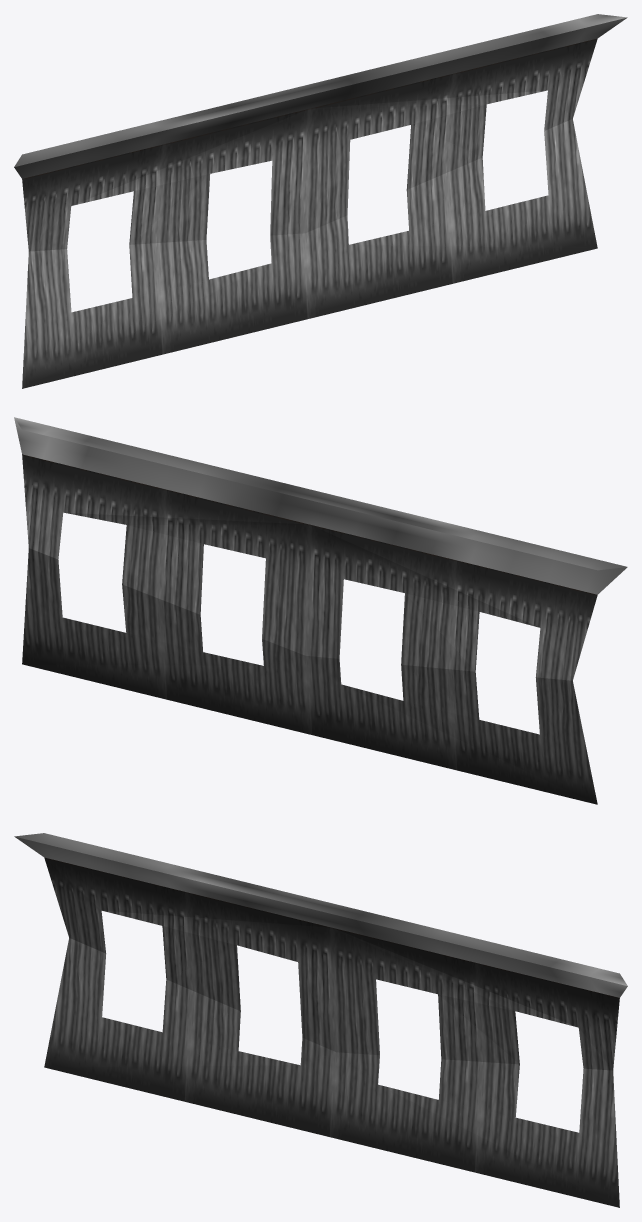
The model's file is W_A1_ffff [Wellblech]_741.glb.
3 views of the same model, one above another, from view 1: azimuth 30°, elevation 25°; view 2: azimuth 150°, elevation 25°; view 3: azimuth 330°, elevation 25° (orthographic).
Visible parts, largest first — view 1: polySurfaceShape728, polySurfaceShape1064; view 2: polySurfaceShape728, polySurfaceShape1064; view 3: polySurfaceShape728, polySurfaceShape1064.
Part boxes in pixels (x1=…): polySurfaceShape728: x1=22, y1=38, x2=597, y2=388; polySurfaceShape1064: x1=14, y1=14, x2=627, y2=178; polySurfaceShape728: x1=22, y1=454, x2=597, y2=804; polySurfaceShape1064: x1=14, y1=417, x2=627, y2=594; polySurfaceShape728: x1=44, y1=857, x2=619, y2=1207; polySurfaceShape1064: x1=14, y1=833, x2=627, y2=997.
Size of the model in its own units: 1.07 by 0.3891 by 0.0607.
Materials: 2 (2 with a texture image).
